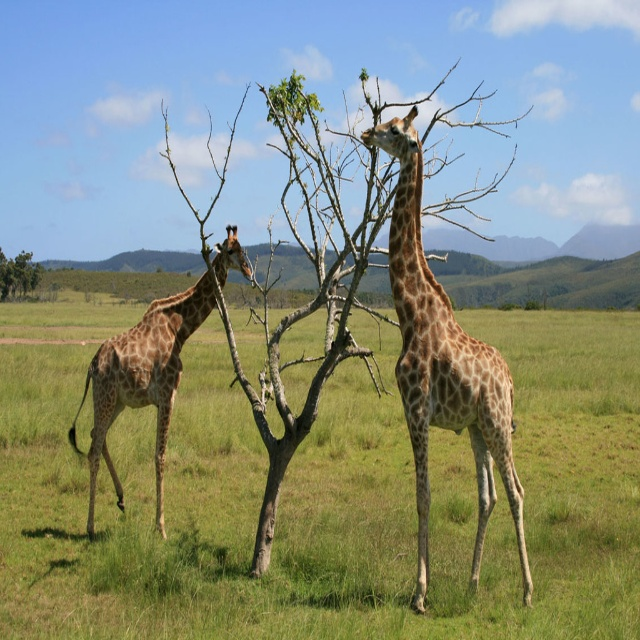Giraffe: (360, 105, 534, 615), (67, 224, 251, 541)
